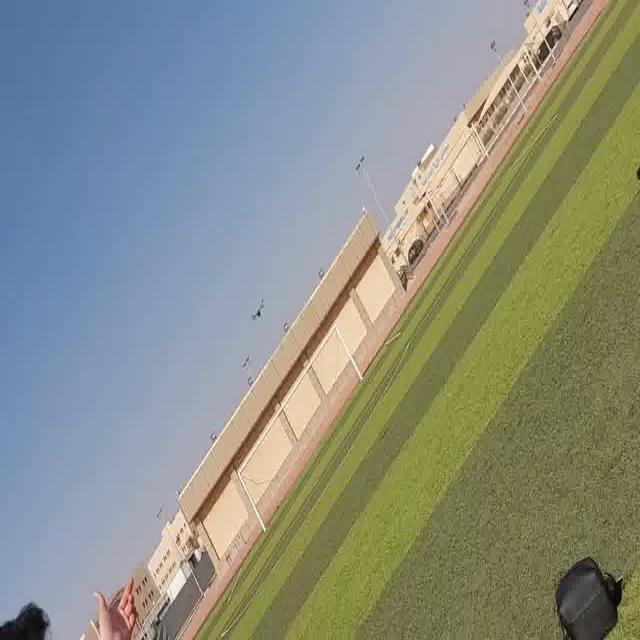drone: (248, 290, 268, 324)
